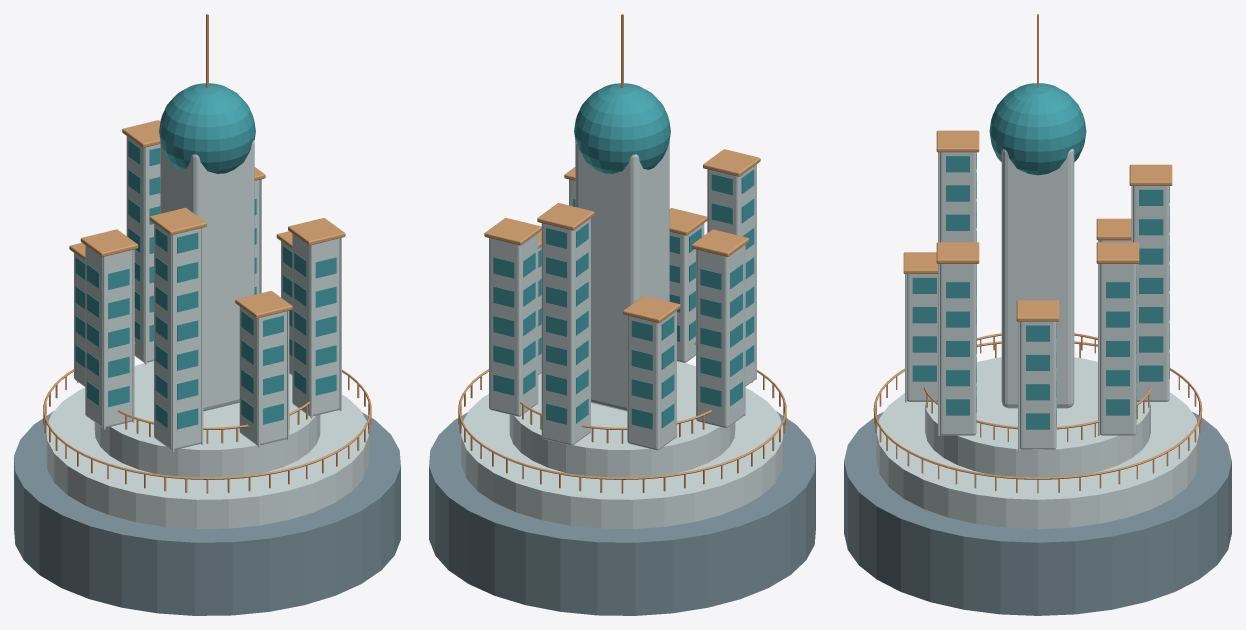
File: distant-observatory-low.glb
The picture shows the model from 3 angles, left to right: view 1: azimuth 30°, elevation 25°; view 2: azimuth 150°, elevation 25°; view 3: azimuth 270°, elevation 25°; orthographic projection.
Visible parts, largest first — view 1: Cylinder.001, Cylinder, Recessed glass, Roof cornice; view 2: Cylinder.001, Cylinder, Recessed glass, Roof cornice; view 3: Cylinder.001, Cylinder, Recessed glass, Roof cornice.
Part boxes in pixels (x1,y1,x2,y2): Cylinder.001: (46,136,368,528); Cylinder: (14,411,400,615); Recessed glass: (75,83,336,429); Roof cornice: (43,14,371,493); Cylinder.001: (461,140,783,528); Cylinder: (429,411,815,615); Recessed glass: (493,83,754,429); Roof cornice: (458,14,786,493); Cylinder.001: (876,148,1199,528); Cylinder: (844,412,1231,615); Recessed glass: (912,83,1169,429); Roof cornice: (873,14,1202,493).
Bounding box in the file's own units: 24 × 35.5 × 24.
